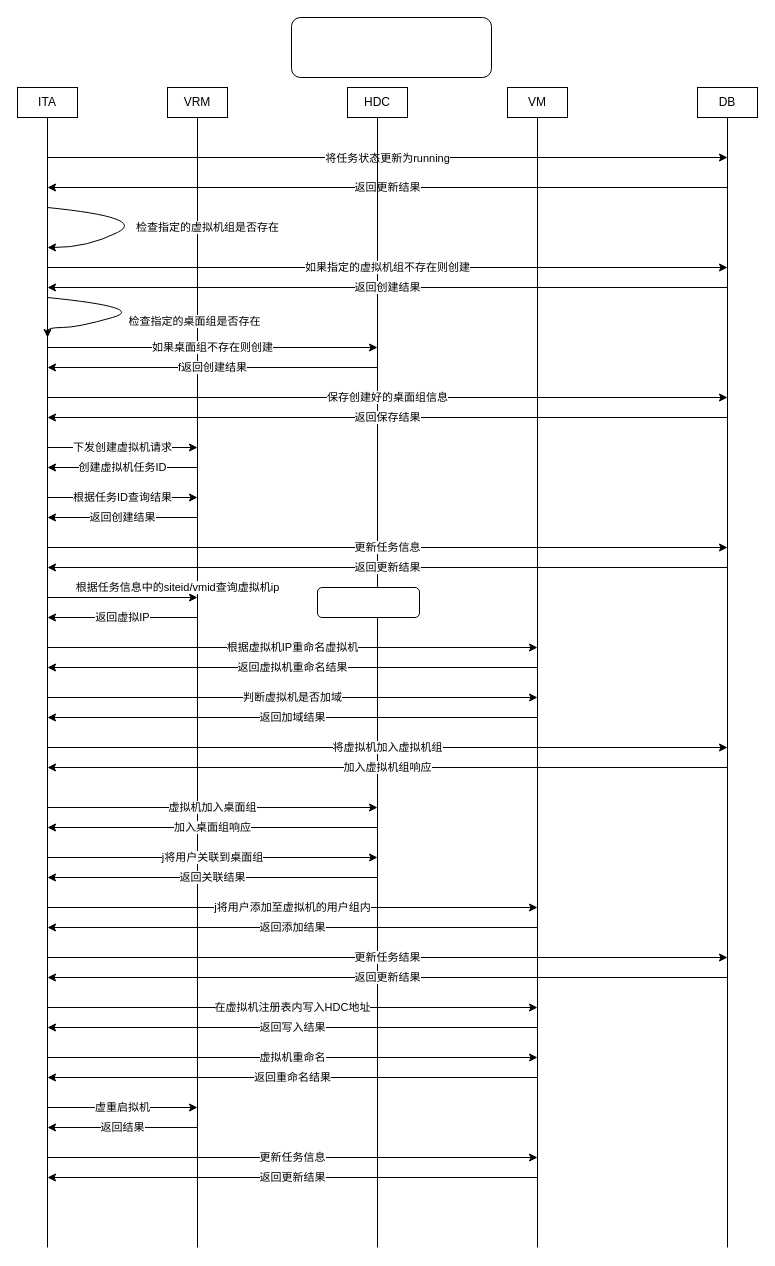
Some shapes in this 775 by 1266 pixel diagram are drawn without their labels. The shapes that lost their labels are listed below. From the top down, each one's centre as x and y in pixels, then its label:
At (391,47): "虚拟机发放流程".
At (368,602): "siteid（站点ID） vmid（虚拟机ID）".
